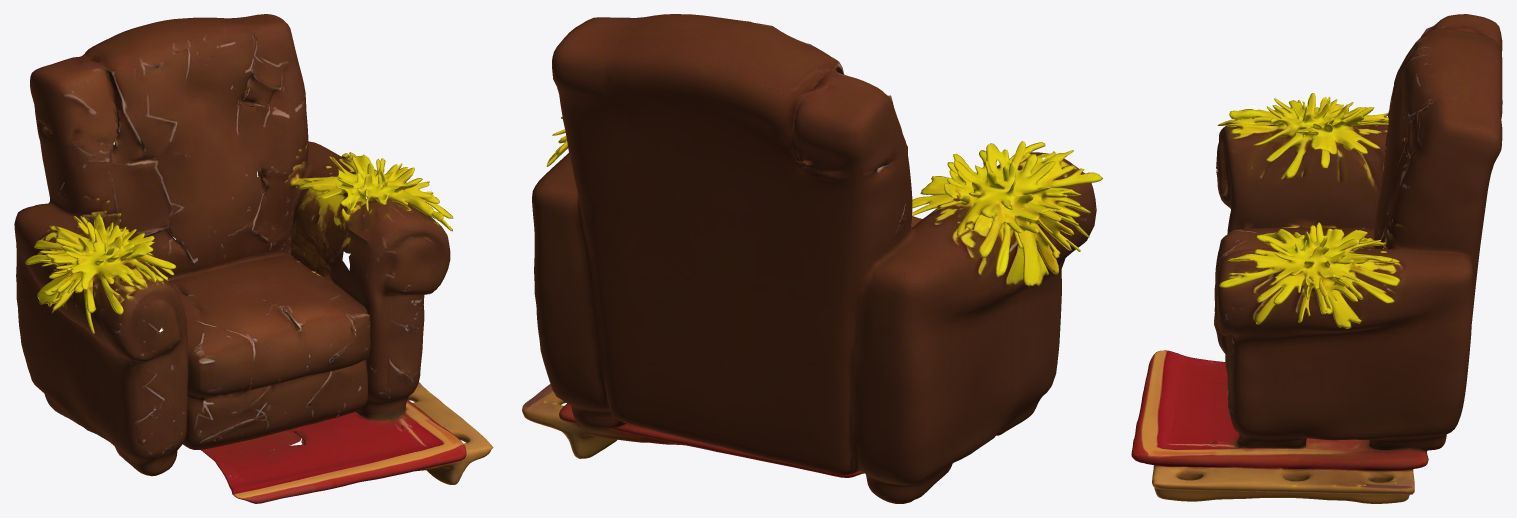
Rendered from g67_misha_throne.glb.
3 renders of one model, left to right at view 1: azimuth 30°, elevation 25°; view 2: azimuth 150°, elevation 25°; view 3: azimuth 270°, elevation 25°, orthographic. The views are drawn at different scales.
Parts seen in each view (by area): view 1: tripo_node_48179ead; view 2: tripo_node_48179ead; view 3: tripo_node_48179ead.
Part boxes in pixels (left/top/right/bottom): tripo_node_48179ead: left=14, top=14, right=493, bottom=503; tripo_node_48179ead: left=522, top=14, right=1102, bottom=503; tripo_node_48179ead: left=1131, top=14, right=1502, bottom=503.
Size of the model in its own units: 96.98 by 92.19 by 80.85.
1 material, 1 textured.
